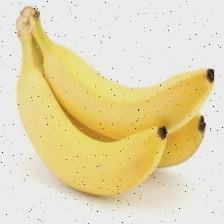banana: (45, 48, 196, 220)
